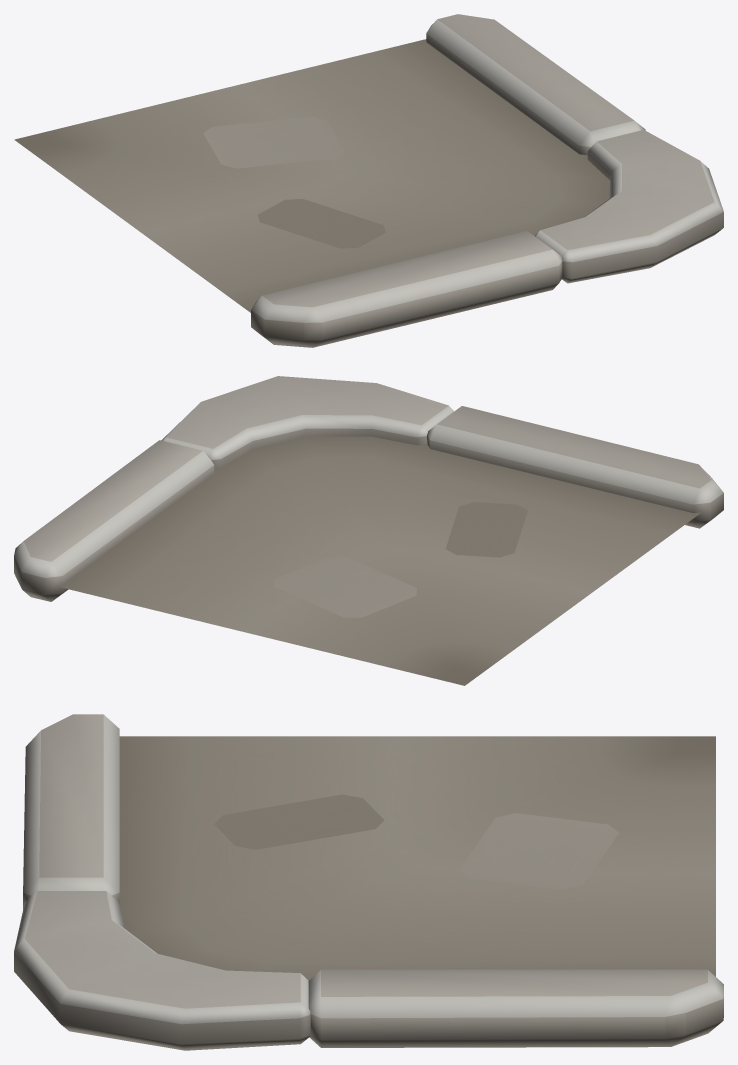
Rendered from path_park_corner.fbx.
The picture shows the model from 3 angles, top to bottom: view 1: azimuth 30°, elevation 25°; view 2: azimuth 150°, elevation 25°; view 3: azimuth 270°, elevation 25°; orthographic projection. The views are drawn at different scales.
Visible parts, largest first — view 1: path_park_corner; view 2: path_park_corner; view 3: path_park_corner.
Part boxes in pixels (left/top/right/bottom): path_park_corner: left=14, top=14, right=723, bottom=347; path_park_corner: left=14, top=376, right=723, bottom=685; path_park_corner: left=14, top=714, right=723, bottom=1050.
Size of the model in its own units: 442 by 35 by 441.
